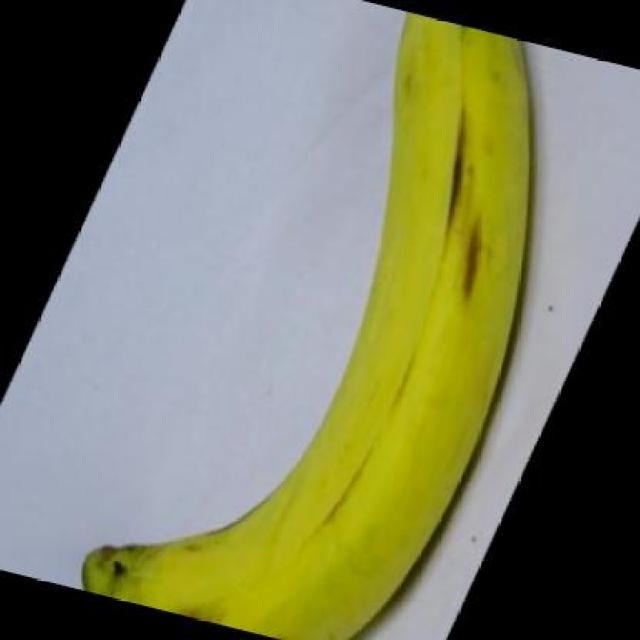ripe: (86, 20, 571, 640)
